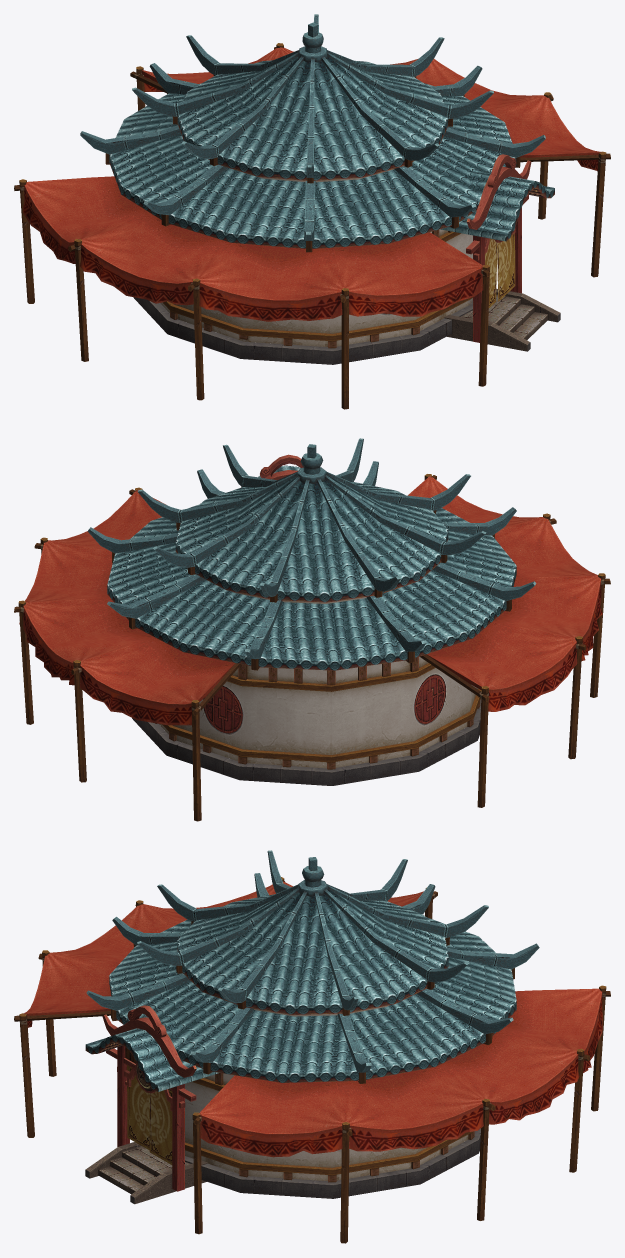
The model's file is xsz_fangzi_3.FBX.
3 renders of one model, top to bottom at view 1: azimuth 30°, elevation 25°; view 2: azimuth 150°, elevation 25°; view 3: azimuth 270°, elevation 25°, orthographic.
Parts seen in each view (by area): view 1: xsz_fangzi_3; view 2: xsz_fangzi_3; view 3: xsz_fangzi_3.
Boxes of the visible parts, x1,y1,x2,y2 form: xsz_fangzi_3: (14,14,610,409); xsz_fangzi_3: (14,438,610,821); xsz_fangzi_3: (14,850,610,1243).
Bounding box in the file's own units: 1405 × 1405 × 697.
